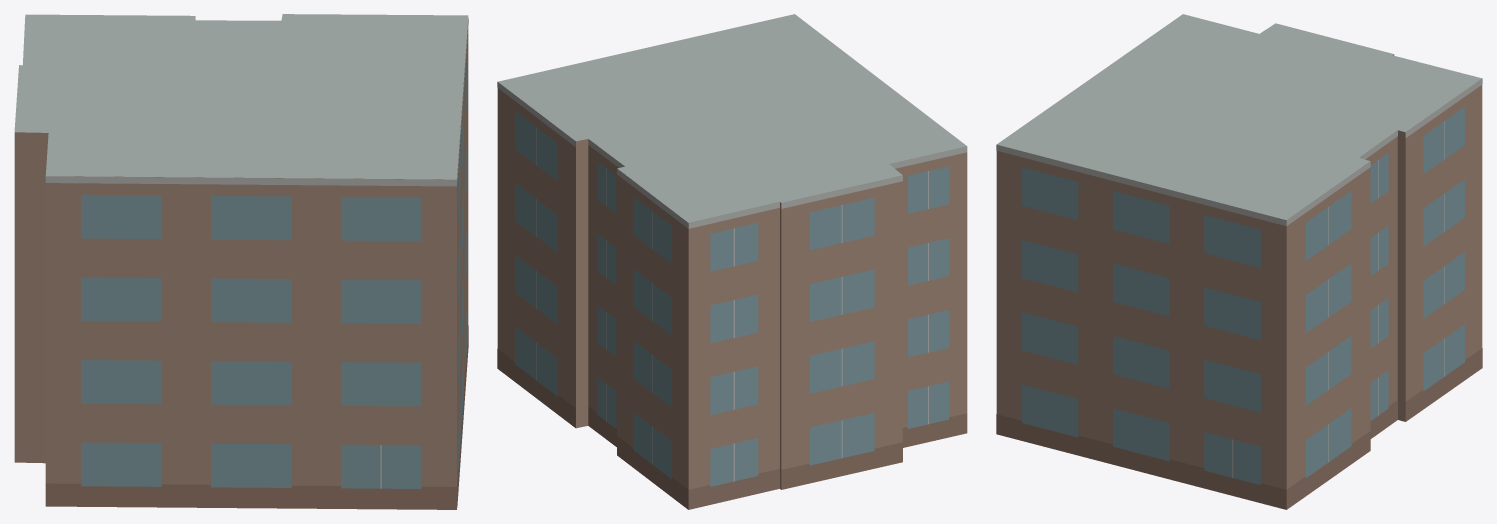
Rendered from survey-upis-32672543.glb.
3 renders of one model, left to right at view 1: azimuth 30°, elevation 25°; view 2: azimuth 150°, elevation 25°; view 3: azimuth 270°, elevation 25°, orthographic. The views are drawn at different scales.
Parts seen in each view (by area): view 1: survey-upis-32672543.tmp; view 2: survey-upis-32672543.tmp; view 3: survey-upis-32672543.tmp.
Boxes of the visible parts, x1,y1,x2,y2 form: survey-upis-32672543.tmp: (14,14,468,509); survey-upis-32672543.tmp: (497,14,967,509); survey-upis-32672543.tmp: (996,14,1482,509).
Bounding box in the file's own units: 17.87 × 11.7 × 17.8.
